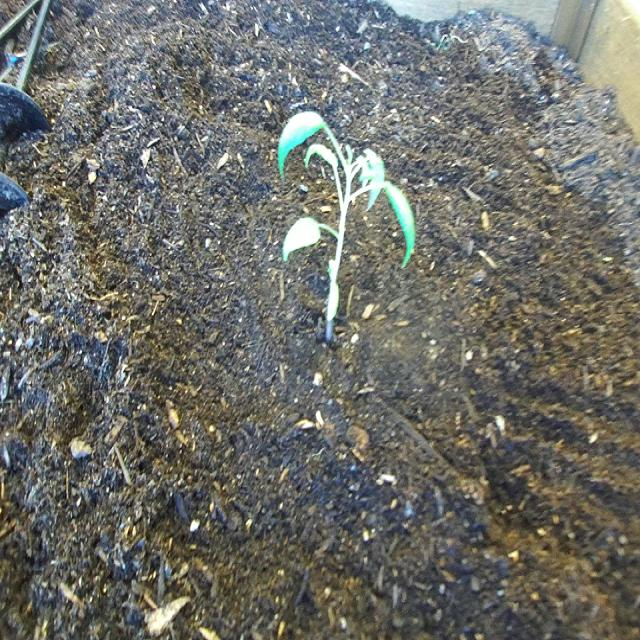Healthy: (275, 108, 420, 352)
